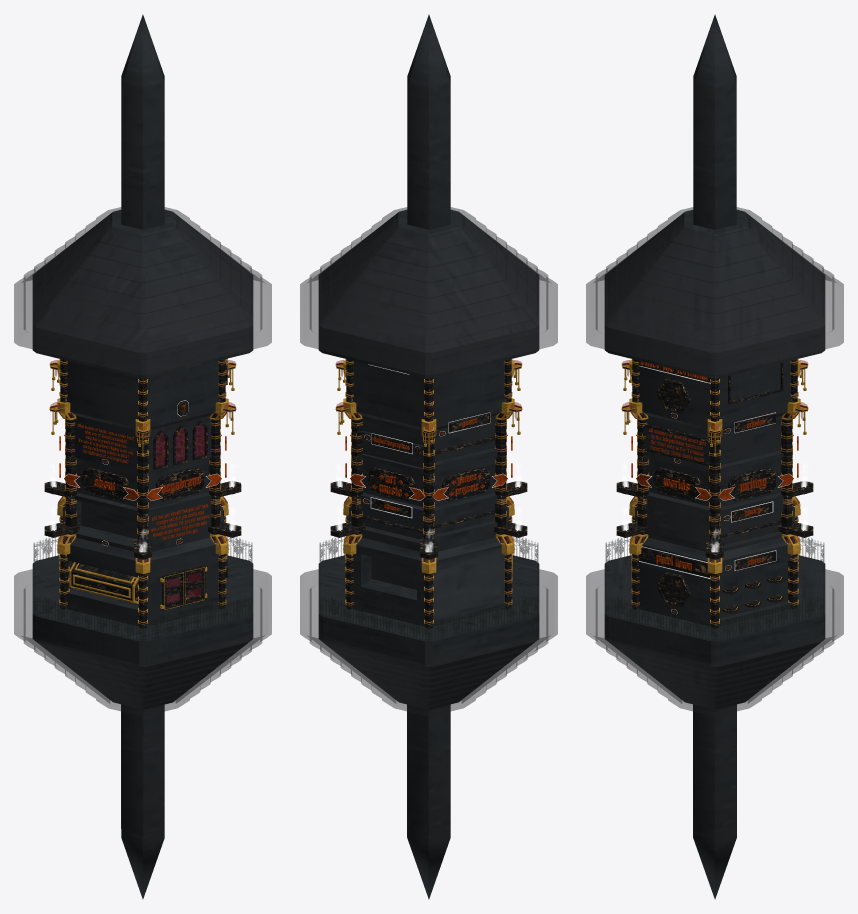
File: HexCoreAtl-512-transformed.glb
3 views of the same model, side by side, from view 1: azimuth 30°, elevation 25°; view 2: azimuth 150°, elevation 25°; view 3: azimuth 270°, elevation 25° (orthographic).
Parts seen in each view (by area): view 1: HexCoreFusedAtlas, SpinnerF, CabinetDoor.002, CabinetDoor.003; view 2: HexCoreFusedAtlas; view 3: HexCoreFusedAtlas.
Part boxes in pixels (bbox=[...]): HexCoreFusedAtlas: bbox=[14, 14, 271, 899]; SpinnerF: bbox=[69, 562, 138, 603]; CabinetDoor.002: bbox=[160, 570, 184, 610]; CabinetDoor.003: bbox=[183, 565, 207, 605]; HexCoreFusedAtlas: bbox=[300, 14, 557, 899]; HexCoreFusedAtlas: bbox=[586, 14, 843, 899].
Size of the model in its own units: 3.17 by 10.58 by 2.79.
5 materials, 4 textured.
